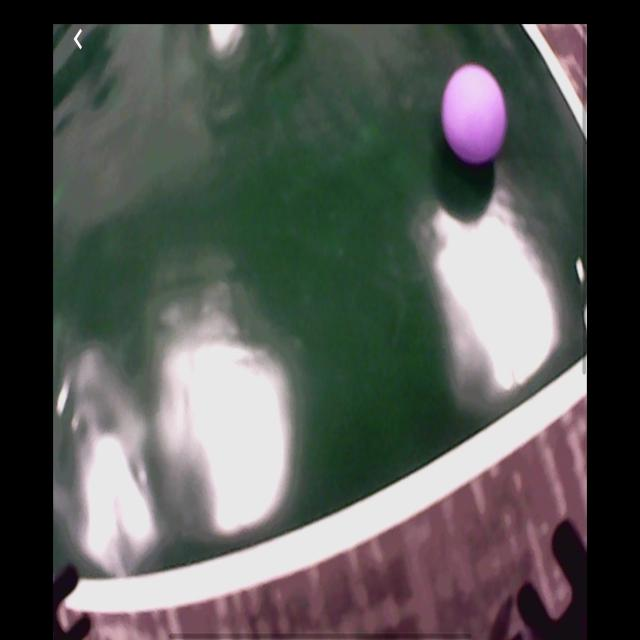ball: (442, 65, 506, 162)
